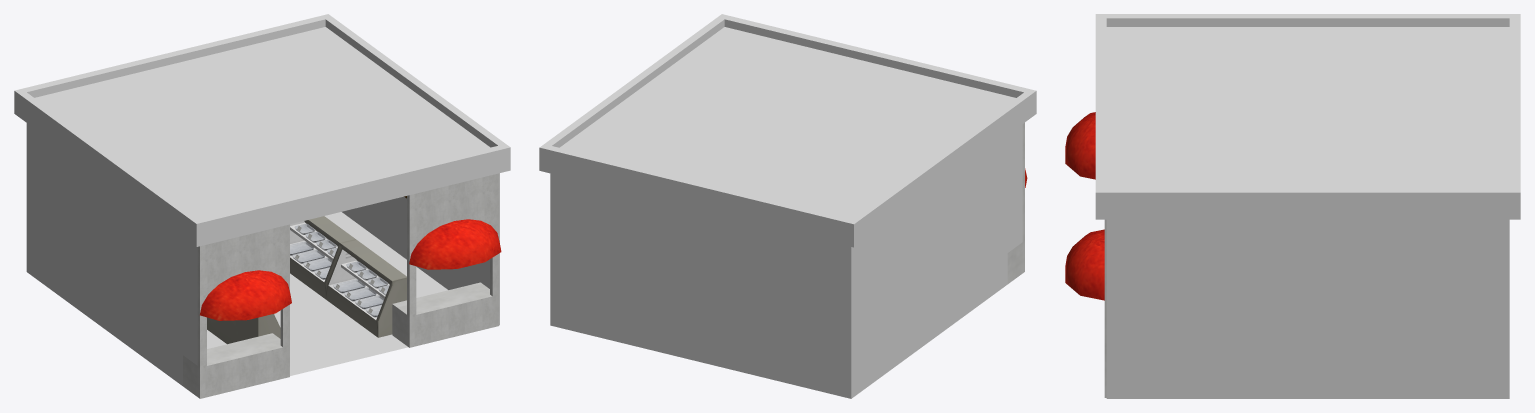
The model's file is Meat_Shop.fbx.
3 renders of one model, left to right at view 1: azimuth 30°, elevation 25°; view 2: azimuth 150°, elevation 25°; view 3: azimuth 270°, elevation 25°, orthographic. The views are drawn at different scales.
Parts seen in each view (by area): view 1: Meat_Shop_Roof1, Meat_Shop_Wall3, Meat_Shop_Window10, Meat_Shop_Window9, pPlane13, Meat_Shop_Shelves21, Meat_Shop_Wall4, Meat_Shop_Shelves22, Meat_Shop_Shelves20; view 2: Meat_Shop_Roof1, Meat_Shop_Wall2, Meat_Shop_Wall3, Meat_Shop_Window9; view 3: Meat_Shop_Roof1, Meat_Shop_Wall7, Meat_Shop_Window10, Meat_Shop_Window9.
Part boxes in pixels (<box>): Meat_Shop_Roof1: <box>14,14,510,246</box>; Meat_Shop_Wall3: <box>26,123,197,385</box>; Meat_Shop_Window10: <box>392,173,501,347</box>; Meat_Shop_Window9: <box>183,224,291,398</box>; pPlane13: <box>207,212,447,375</box>; Meat_Shop_Shelves21: <box>326,239,406,337</box>; Meat_Shop_Wall4: <box>342,196,489,289</box>; Meat_Shop_Shelves22: <box>290,216,355,299</box>; Meat_Shop_Shelves20: <box>207,314,280,344</box>; Meat_Shop_Roof1: <box>539,14,1036,247</box>; Meat_Shop_Wall2: <box>551,174,851,398</box>; Meat_Shop_Wall3: <box>850,124,1022,398</box>; Meat_Shop_Window9: <box>1007,122,1027,283</box>; Meat_Shop_Roof1: <box>1095,14,1520,219</box>; Meat_Shop_Wall7: <box>1106,219,1509,398</box>; Meat_Shop_Window10: <box>1065,219,1106,397</box>; Meat_Shop_Window9: <box>1065,112,1095,179</box>.
Bounding box in the file's own units: 10.5 × 5.74 × 11.31.
